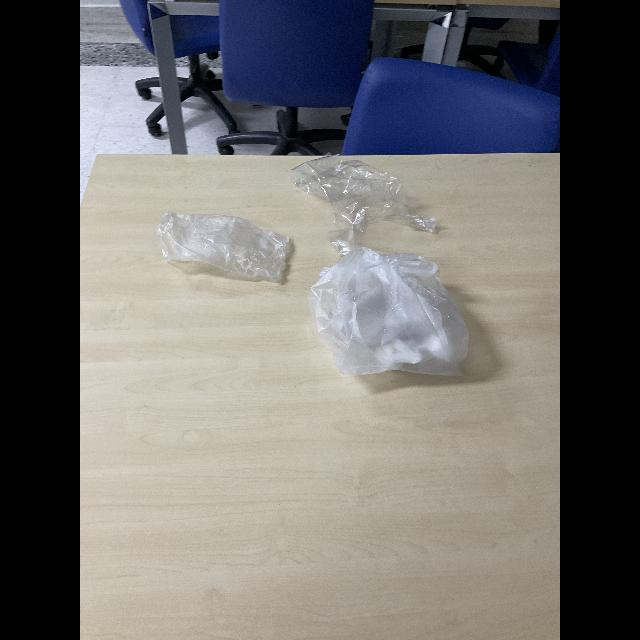plastic_bag: (306, 250, 477, 386), (295, 152, 437, 252), (154, 205, 298, 289)
